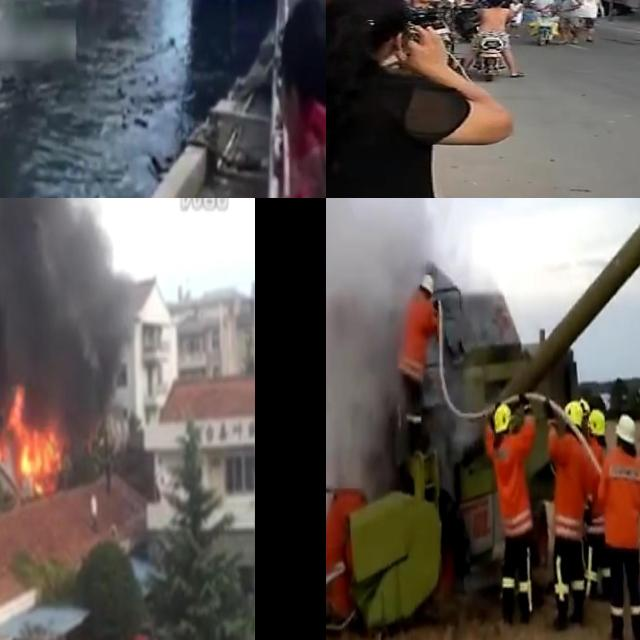fire: (2, 397, 66, 493)
smoke: (326, 198, 436, 494), (0, 198, 134, 426)
